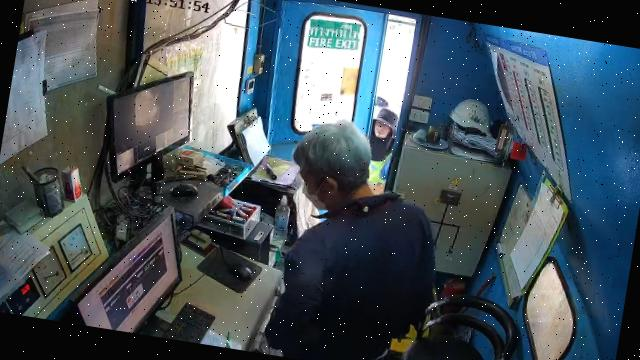Head: (293, 120, 372, 210)
People: (266, 122, 435, 359)
